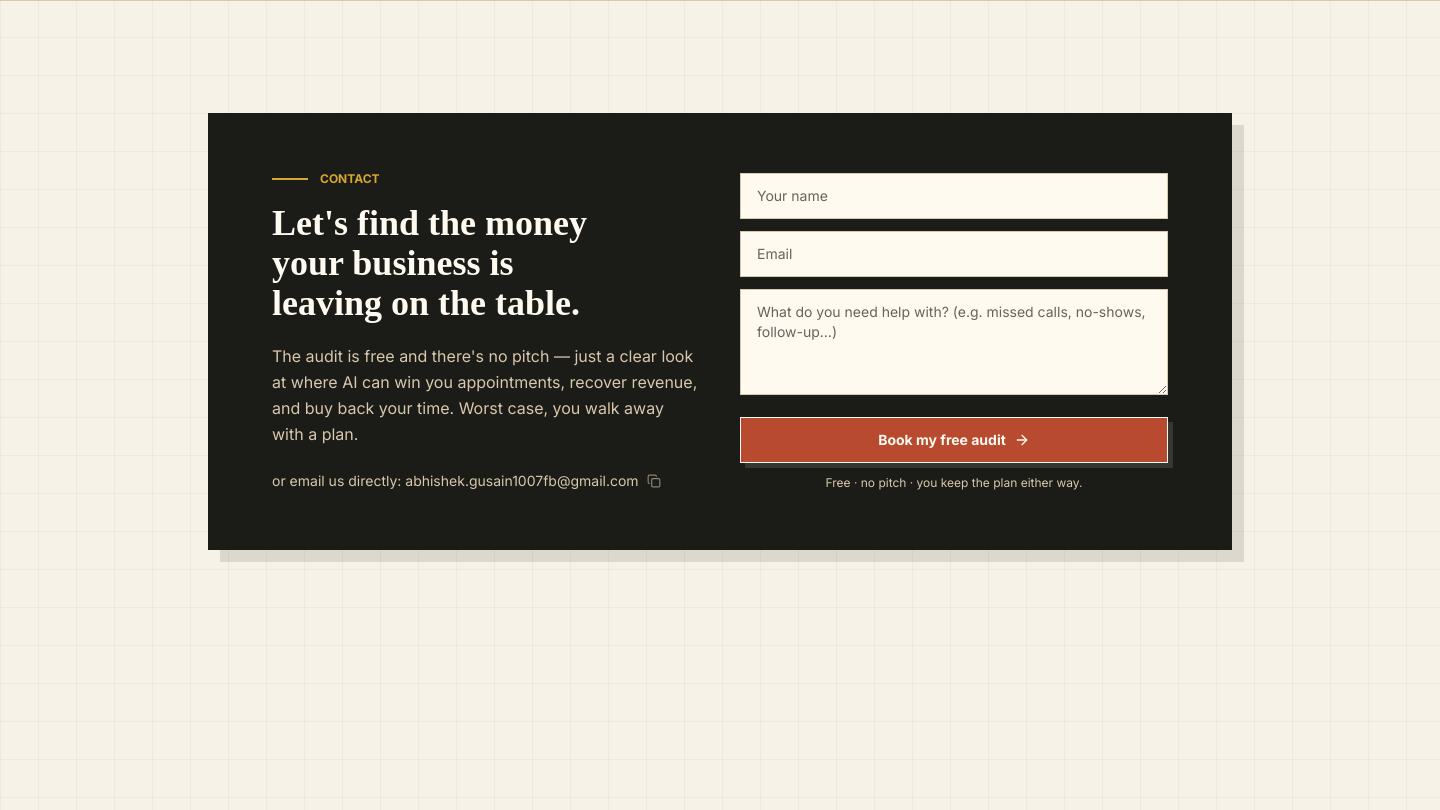
Scenario: ContactSection (lead form) › posts valid data to /api/contact and shows success
Type "Jane Doe" into the field with placeholder "Your name" at (954, 196), box [740, 172, 1168, 218]
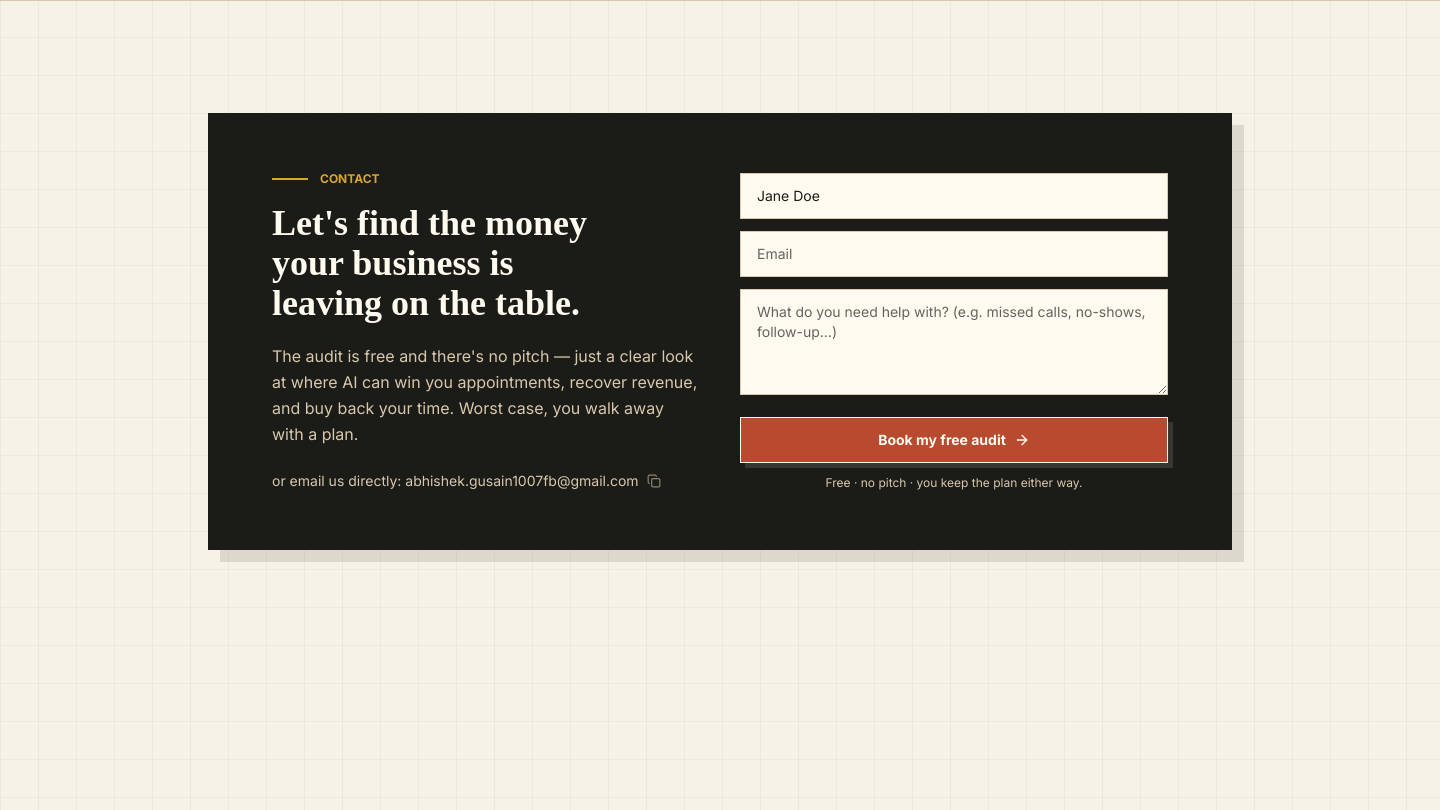
Type "jane@example.com" into the field with placeholder "Email" at (954, 254), box [740, 230, 1168, 276]
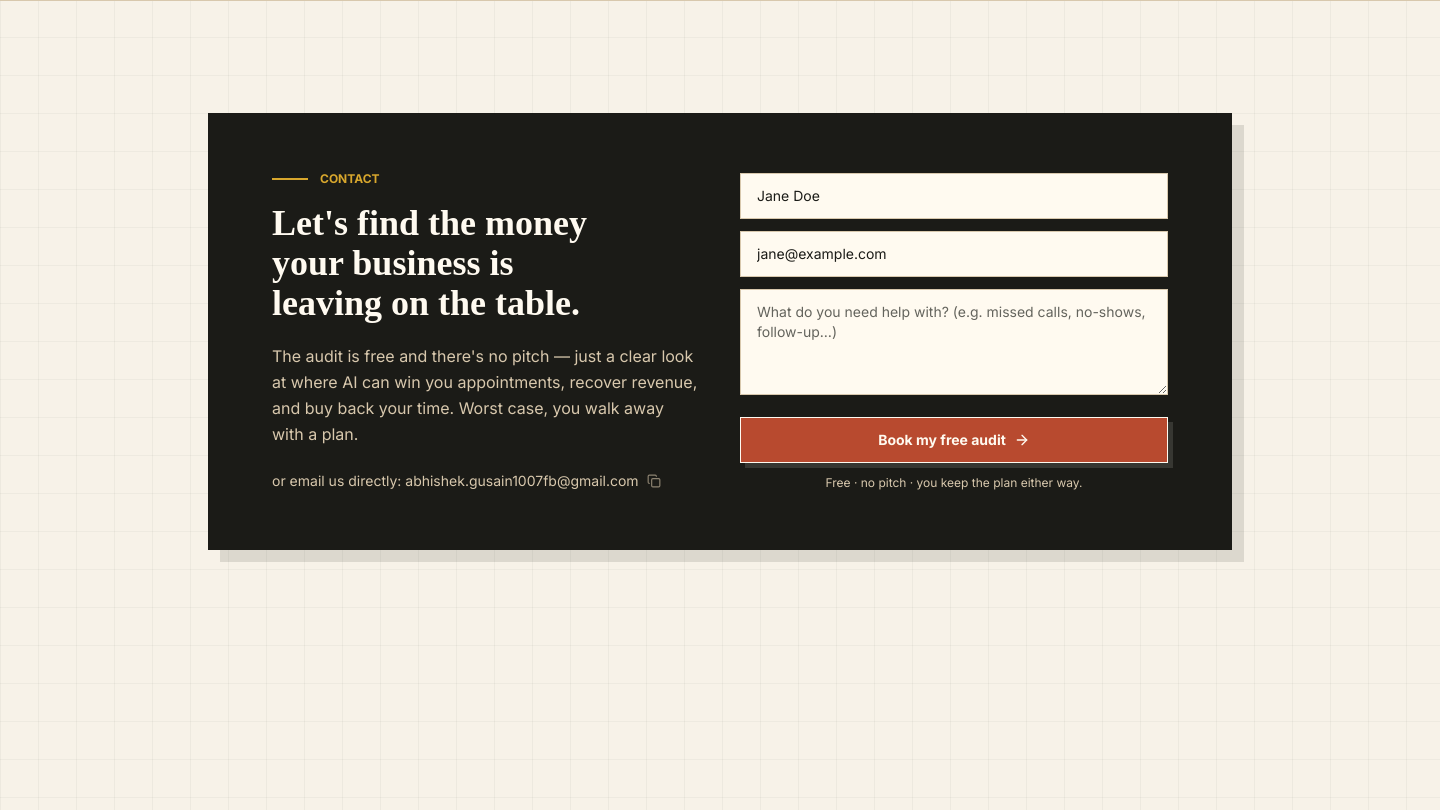
Replace the text in the text box with placeholder "What do you need help with" with "We miss calls after hours." at (954, 342), box [740, 288, 1168, 394]
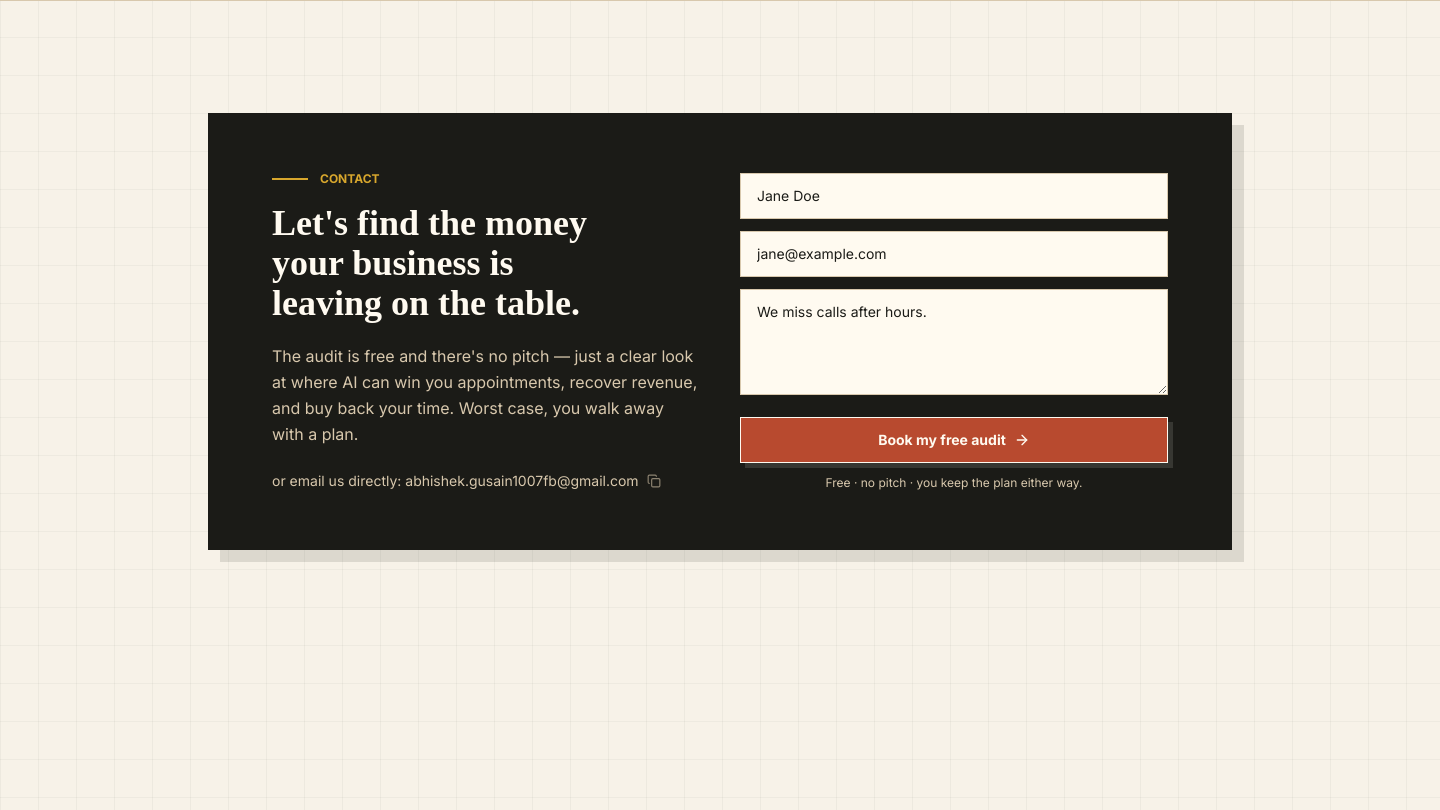
Click the button "Book my free audit" at (954, 440), box [740, 416, 1168, 462]
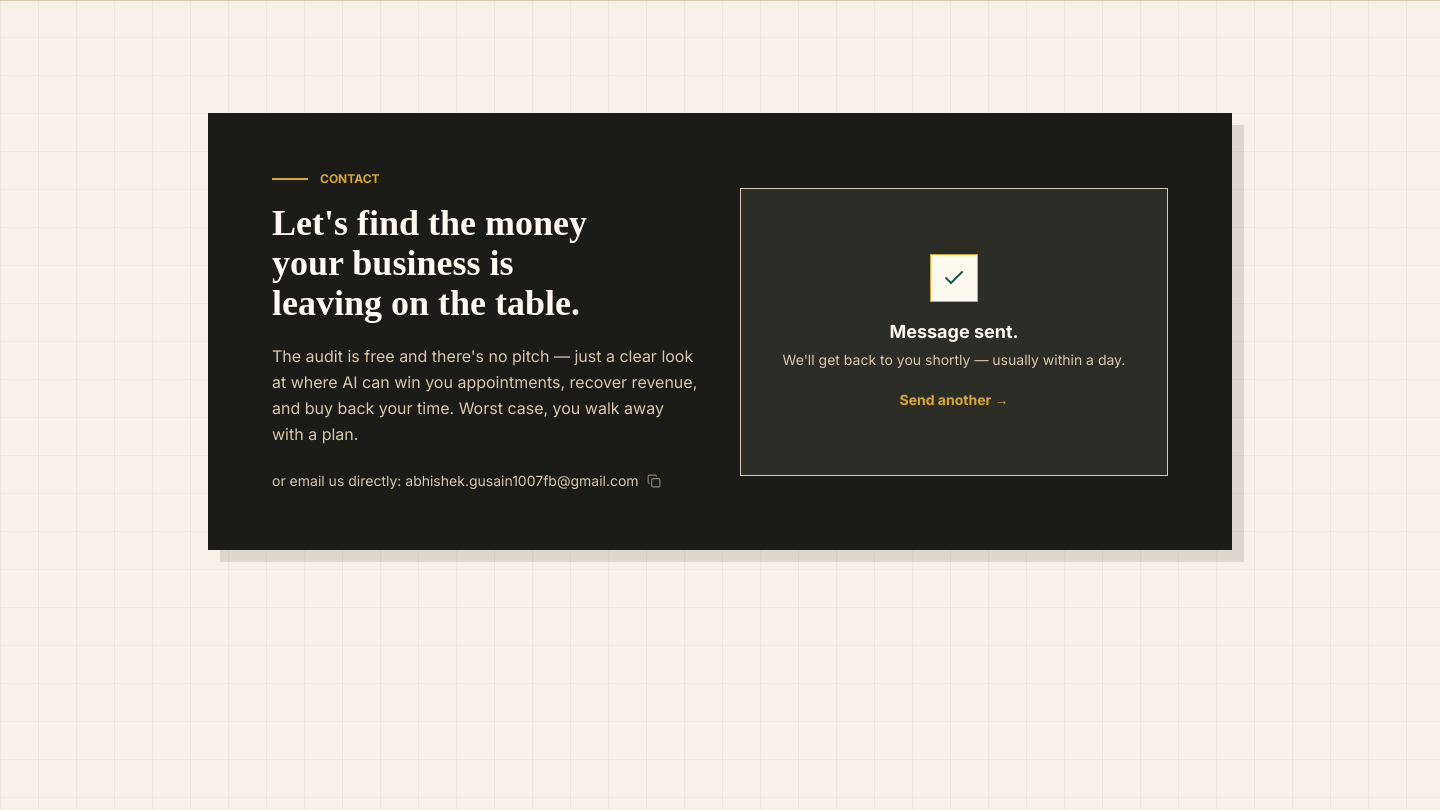
Expected: the text "Message sent." is shown, [890, 318, 1019, 346]
